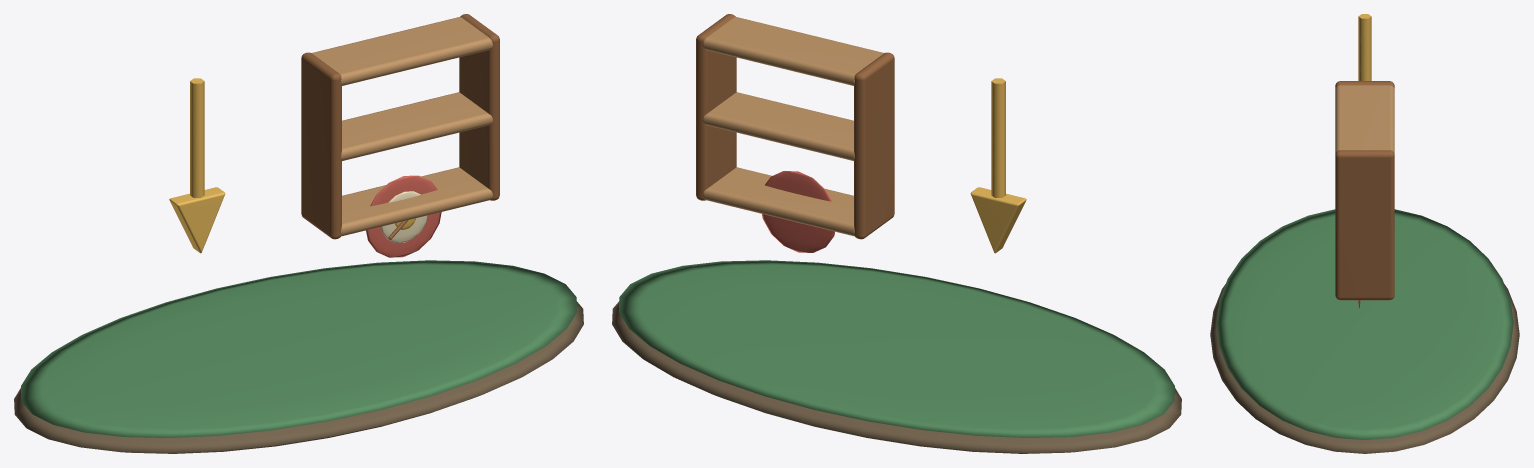
Rendered from complete-second-arrival-bottom.glb.
3 renders of one model, left to right at view 1: azimuth 30°, elevation 25°; view 2: azimuth 150°, elevation 25°; view 3: azimuth 270°, elevation 25°, orthographic. The views are drawn at different scales.
Visible parts, largest first — view 1: complete-second-arrival-bottom_surface_01, complete-second-arrival-bottom_surface_03, complete-second-arrival-bottom_surface_04, complete-second-arrival-bottom_surface_00, complete-second-arrival-bottom_surface_02, complete-second-arrival-bottom_surface_05, complete-second-arrival-bottom_surface_06; view 2: complete-second-arrival-bottom_surface_01, complete-second-arrival-bottom_surface_03, complete-second-arrival-bottom_surface_04, complete-second-arrival-bottom_surface_00, complete-second-arrival-bottom_surface_02, complete-second-arrival-bottom_surface_05; view 3: complete-second-arrival-bottom_surface_01, complete-second-arrival-bottom_surface_04, complete-second-arrival-bottom_surface_00, complete-second-arrival-bottom_surface_03, complete-second-arrival-bottom_surface_02.
Boxes of the visible parts, <box> form: complete-second-arrival-bottom_surface_01: <box>21,260,576,437</box>; complete-second-arrival-bottom_surface_03: <box>312,17,492,236</box>; complete-second-arrival-bottom_surface_04: <box>301,14,499,239</box>; complete-second-arrival-bottom_surface_00: <box>14,302,583,453</box>; complete-second-arrival-bottom_surface_02: <box>169,78,415,253</box>; complete-second-arrival-bottom_surface_05: <box>366,175,441,257</box>; complete-second-arrival-bottom_surface_06: <box>381,191,428,242</box>; complete-second-arrival-bottom_surface_01: <box>619,260,1174,437</box>; complete-second-arrival-bottom_surface_03: <box>703,17,883,236</box>; complete-second-arrival-bottom_surface_04: <box>696,14,894,239</box>; complete-second-arrival-bottom_surface_00: <box>612,302,1181,453</box>; complete-second-arrival-bottom_surface_02: <box>970,78,1026,253</box>; complete-second-arrival-bottom_surface_05: <box>762,171,834,252</box>; complete-second-arrival-bottom_surface_01: <box>1216,209,1513,439</box>; complete-second-arrival-bottom_surface_04: <box>1335,81,1394,300</box>; complete-second-arrival-bottom_surface_00: <box>1210,284,1519,453</box>; complete-second-arrival-bottom_surface_03: <box>1335,85,1394,153</box>; complete-second-arrival-bottom_surface_02: <box>1358,14,1371,80</box>.
Bounding box in the file's own units: 4.56 × 2.57 × 2.5.
